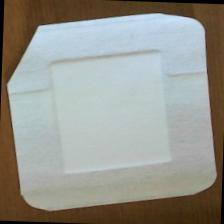Cut: (1, 8, 224, 220)
